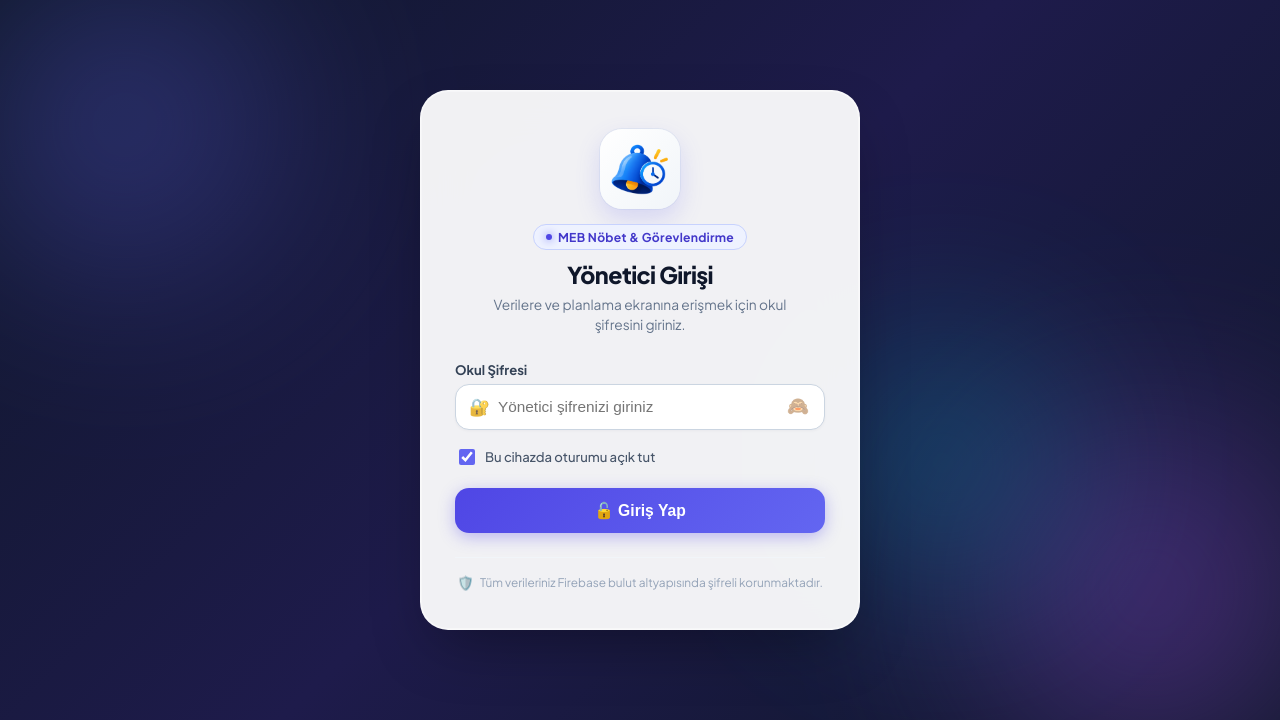
Test: Admin Authentication & Security Lock › LoginScreen Component › shows error message when empty password submitted
The image size is (1280, 720).
Check: the password field with placeholder "Yönetici şifrenizi giriniz" is shown, box [455,384,825,430]
Click the button "🔓 Giriş Yap".
click(640, 510)  # box [455,488,825,533]
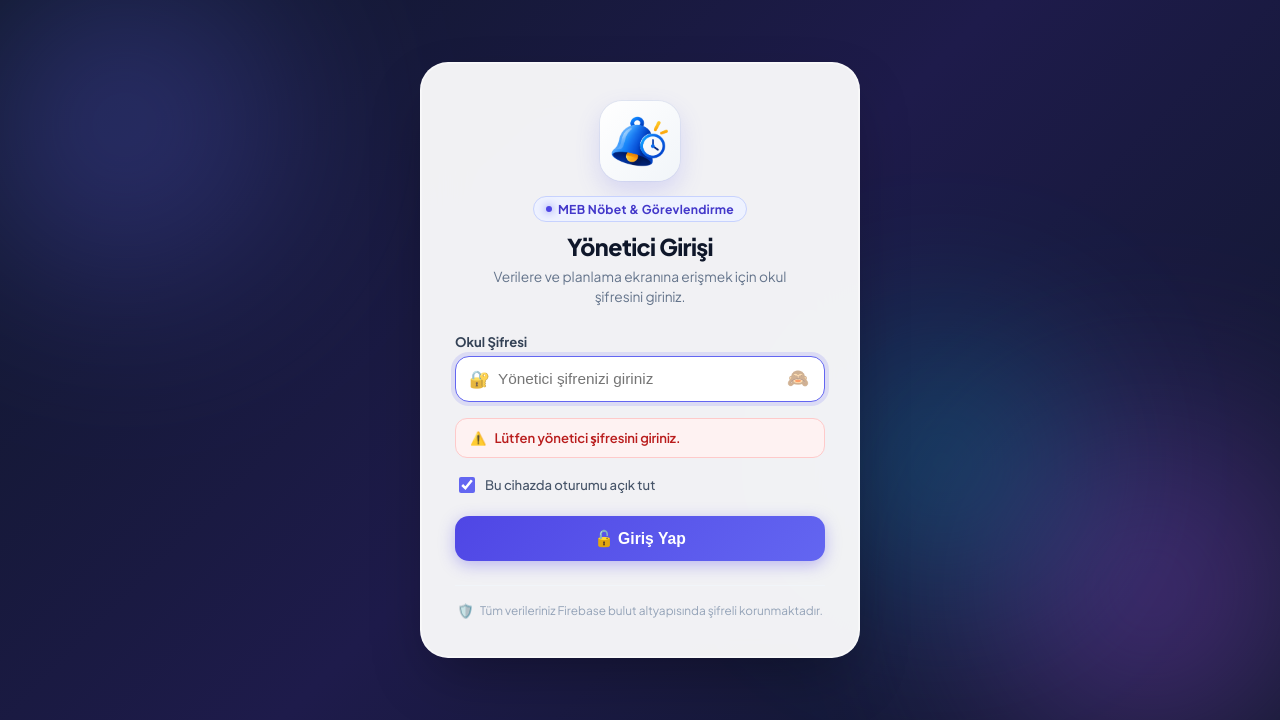
Check: the text "Lütfen yönetici şifresini giriniz." is shown, box [494,429,680,447]
